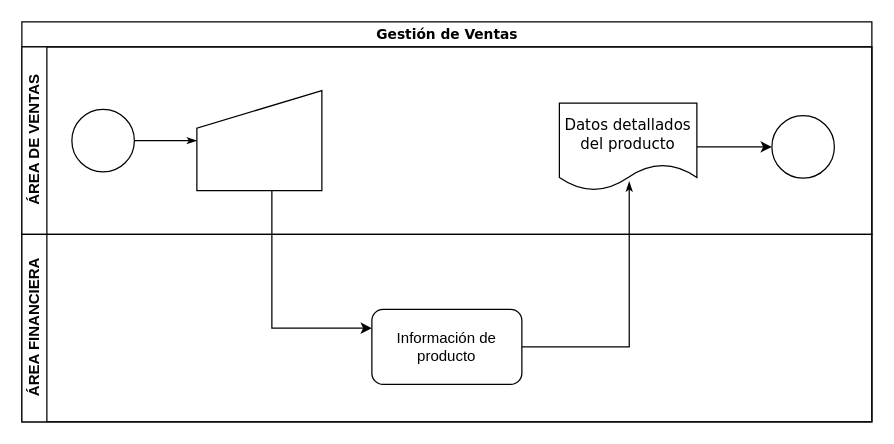
The diagram is 894 pixels wide and 444 high, and some of its shapes have lost their labels. The shapes that lost their labels are listed below. From the top down, each one's centre as x and y in pixels, then its label:
At (102,140): "Inicio".
At (259,140): "Datos del proveedor".
At (802,146): "Fin".
